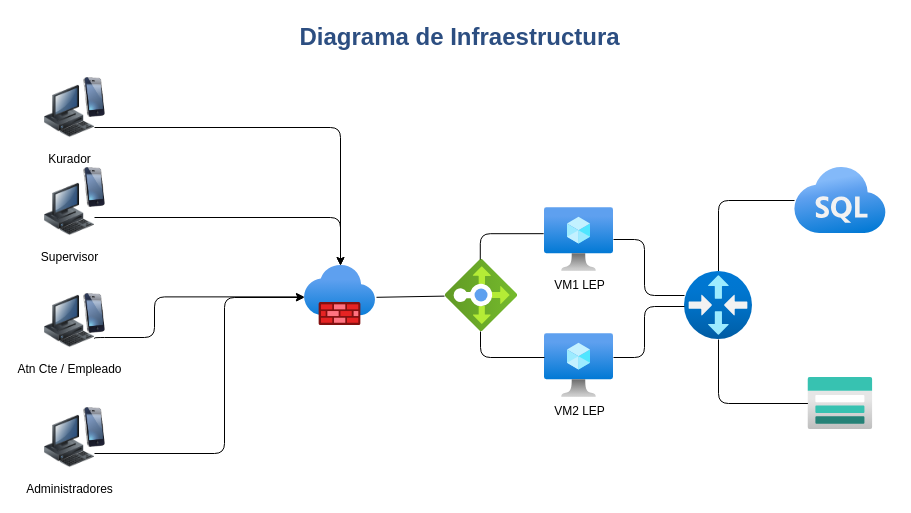
Image size: 911x513. Some labels were removed from this diagram. The shapes that lost their labels are listed below. From the top down, each one's box as (x1, y1, x2, y2) in pixels, then its label:
(794, 167, 886, 233): DB MSSQL (HIPAA)
(304, 265, 375, 325): Azure FW
(807, 377, 872, 429): Storage BLOB
